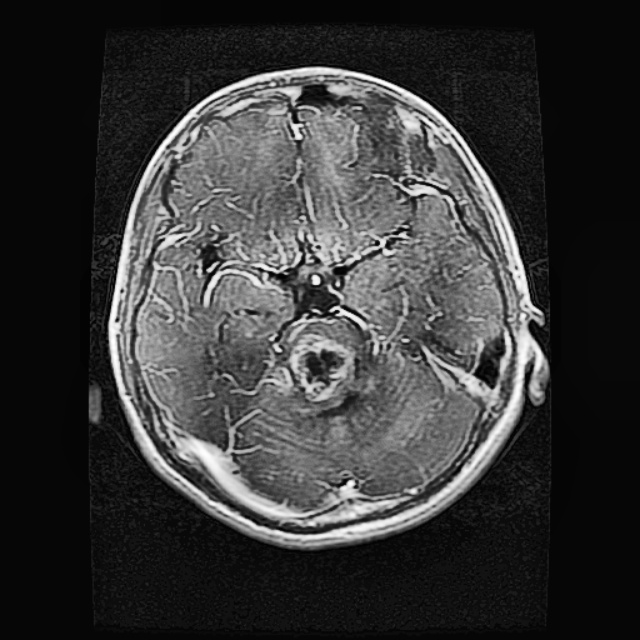Glioma: (272, 324, 369, 408)
